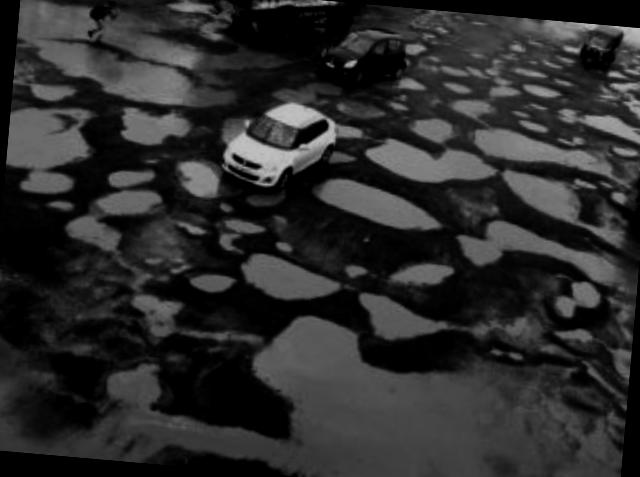Pothole: (227, 298, 632, 477), (11, 0, 279, 123), (441, 196, 640, 327), (52, 206, 187, 338), (495, 164, 640, 277), (90, 355, 230, 469), (302, 161, 462, 242), (337, 272, 459, 374), (350, 128, 520, 198), (4, 93, 114, 200), (467, 113, 617, 180), (240, 225, 346, 310), (573, 82, 640, 177), (84, 170, 180, 227), (384, 246, 459, 298), (323, 87, 399, 137), (438, 71, 507, 122), (342, 63, 422, 104), (169, 160, 236, 203), (514, 77, 561, 106)
